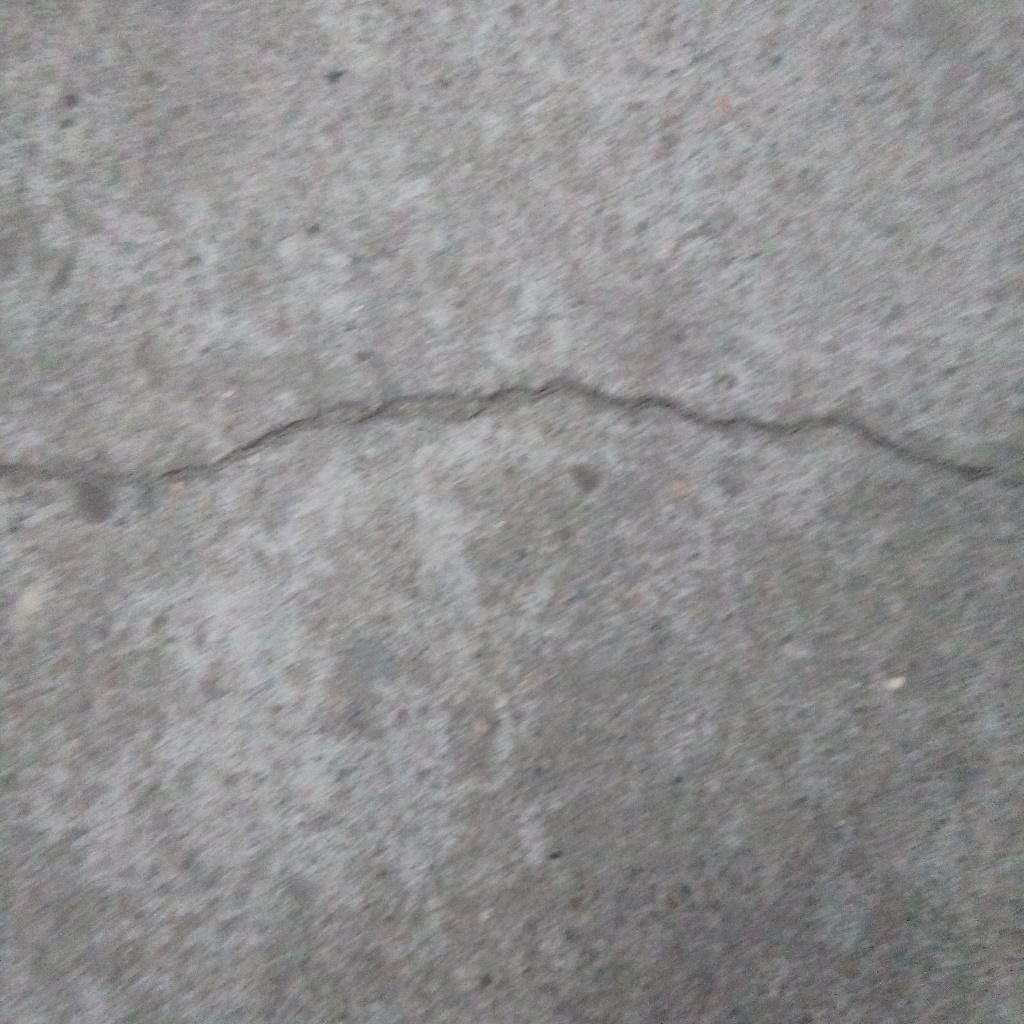Crack: (1, 375, 1024, 490)
